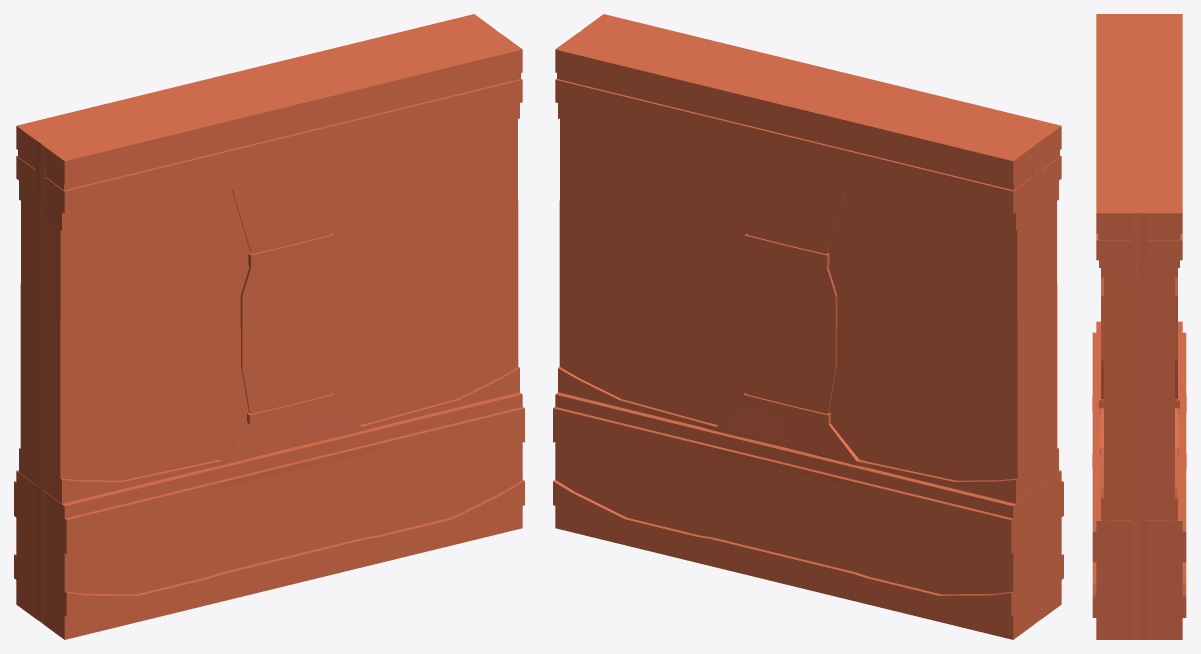
File: MurSeul.fbx
The picture shows the model from 3 angles, left to right: view 1: azimuth 30°, elevation 25°; view 2: azimuth 150°, elevation 25°; view 3: azimuth 270°, elevation 25°; orthographic projection. The views are drawn at different scales.
Parts seen in each view (by area): view 1: Mur_Plein; view 2: Mur_Plein; view 3: Mur_Plein.
Boxes of the visible parts, <box> form: Mur_Plein: <box>14,14,524,639</box>; Mur_Plein: <box>553,14,1063,639</box>; Mur_Plein: <box>1092,14,1186,639</box>.
Size of the model in its own units: 200 by 200 by 40.
